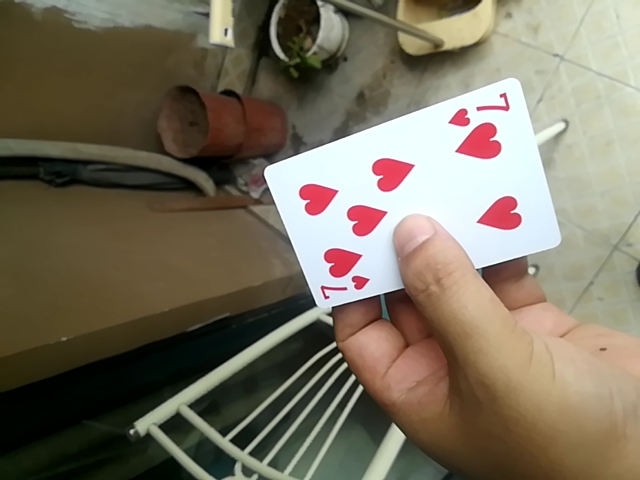hx 7: (261, 79, 558, 319)
